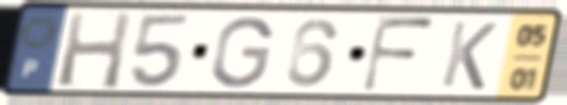5: (127, 12, 196, 91)
6: (284, 16, 343, 90)
F: (357, 13, 439, 96)
G: (207, 14, 277, 91)
H: (54, 9, 136, 92)
K: (437, 18, 501, 93)
